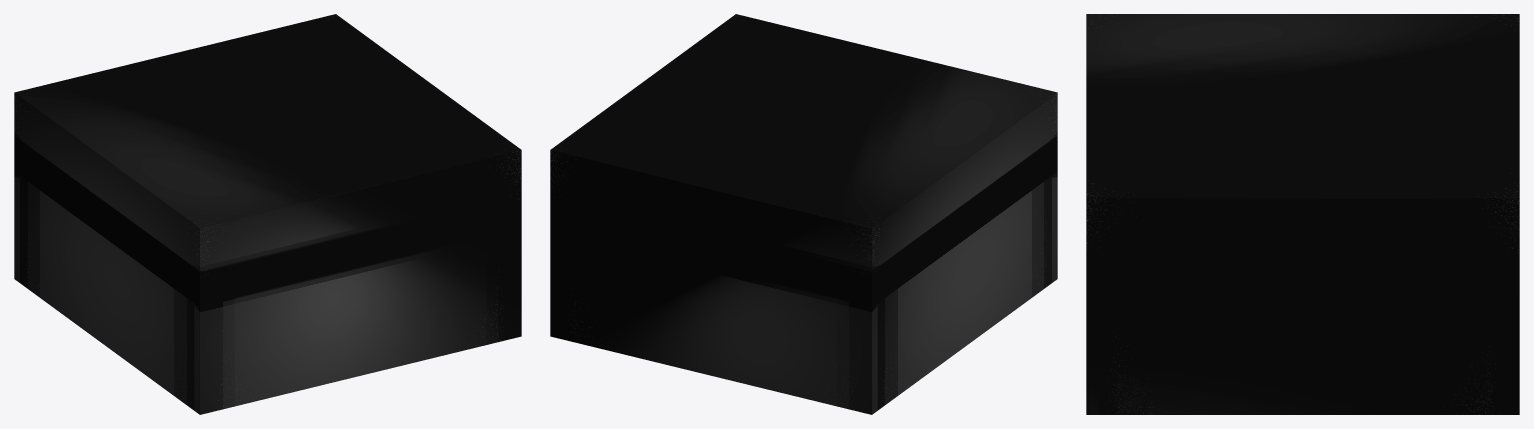
Rendered from meetingroom.obj.
The picture shows the model from 3 angles, left to right: view 1: azimuth 30°, elevation 25°; view 2: azimuth 150°, elevation 25°; view 3: azimuth 270°, elevation 25°; orthographic projection. The views are drawn at different scales.
Visible parts, largest first — view 1: Backdrop_Cube.007; view 2: Backdrop_Cube.007; view 3: Backdrop_Cube.007.
Boxes of the visible parts, x1,y1,x2,y2 form: Backdrop_Cube.007: [14, 14, 521, 414]; Backdrop_Cube.007: [550, 14, 1057, 414]; Backdrop_Cube.007: [1086, 14, 1519, 414].
Bounding box in the file's own units: 18.04 × 10.58 × 18.04.
12 materials, 12 textured.
